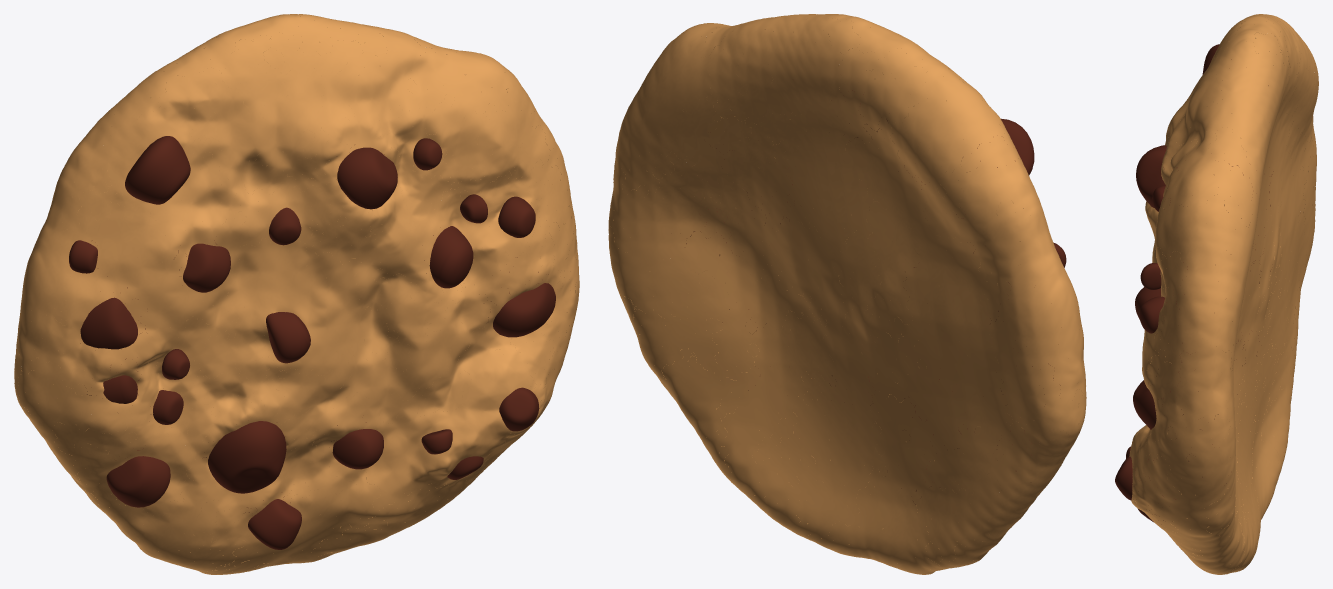
File: cookie.gltf
3 views of the same model, side by side, from view 1: azimuth 30°, elevation 25°; view 2: azimuth 150°, elevation 25°; view 3: azimuth 270°, elevation 25° (orthographic). The views are drawn at different scales.
Parts seen in each view (by area): view 1: COOKIEHIRES_2, chipS_3; view 2: COOKIEHIRES_2, chipS_3; view 3: COOKIEHIRES_2, chipS_3.
Boxes of the visible parts, <box> form: COOKIEHIRES_2: <box>14,14,579,574</box>; chipS_3: <box>69,136,555,549</box>; COOKIEHIRES_2: <box>608,14,1086,574</box>; chipS_3: <box>686,90,1066,504</box>; COOKIEHIRES_2: <box>1129,14,1318,574</box>; chipS_3: <box>1115,44,1273,522</box>.
Bounding box in the file's own units: 1.95 × 1.98 × 0.7101.
2 materials, 1 textured.
